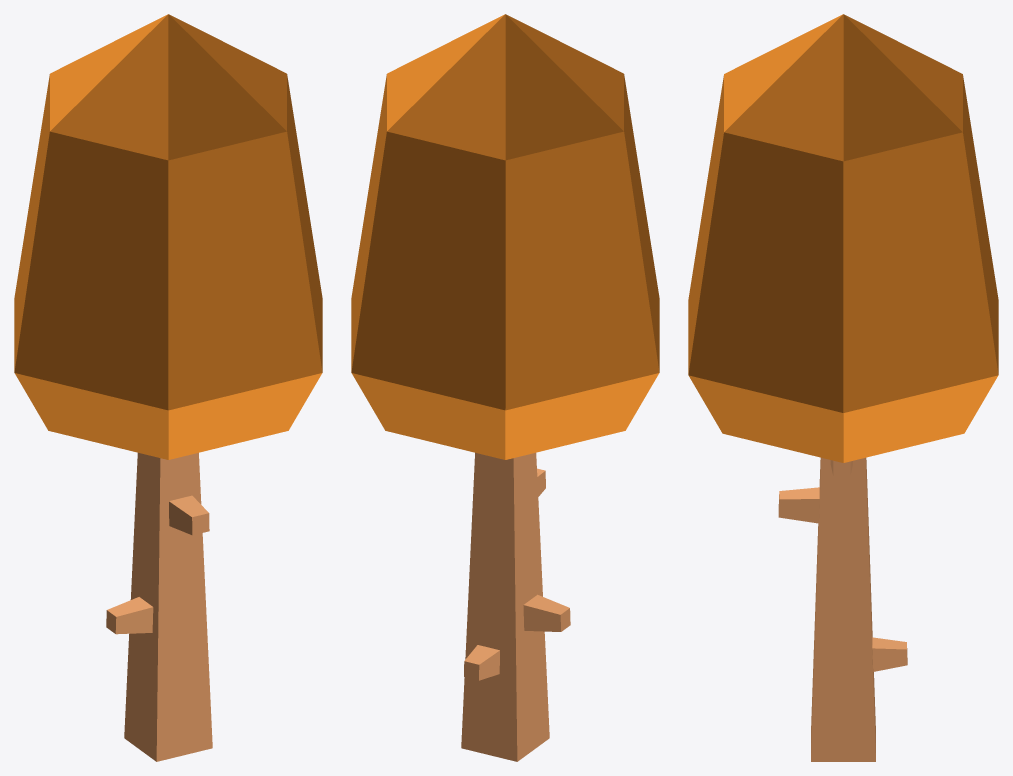
The model's file is tree_default_fall.obj.
The picture shows the model from 3 angles, left to right: view 1: azimuth 30°, elevation 25°; view 2: azimuth 150°, elevation 25°; view 3: azimuth 270°, elevation 25°; orthographic projection.
Parts seen in each view (by area): view 1: tree_default_fall; view 2: tree_default_fall; view 3: tree_default_fall.
Boxes of the visible parts, x1,y1,x2,y2 form: tree_default_fall: (14, 14, 322, 761); tree_default_fall: (351, 14, 659, 761); tree_default_fall: (688, 14, 998, 761).
Size of the model in its own units: 7.55 by 17.08 by 6.54.
